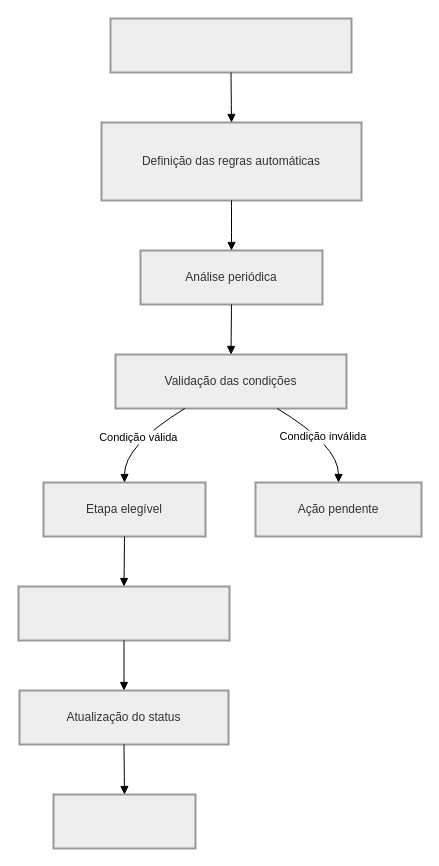
Some shapes in this 439 by 866 pixel diagram are drawn without their labels. The shapes that lost their labels are listed below. From the top down, each one's centre as x and y in pixels, then its label:
At point 230,45: "Curso criado/configurado".
At point 123,613: "Execução automática".
At point 124,821: "Notificação".
